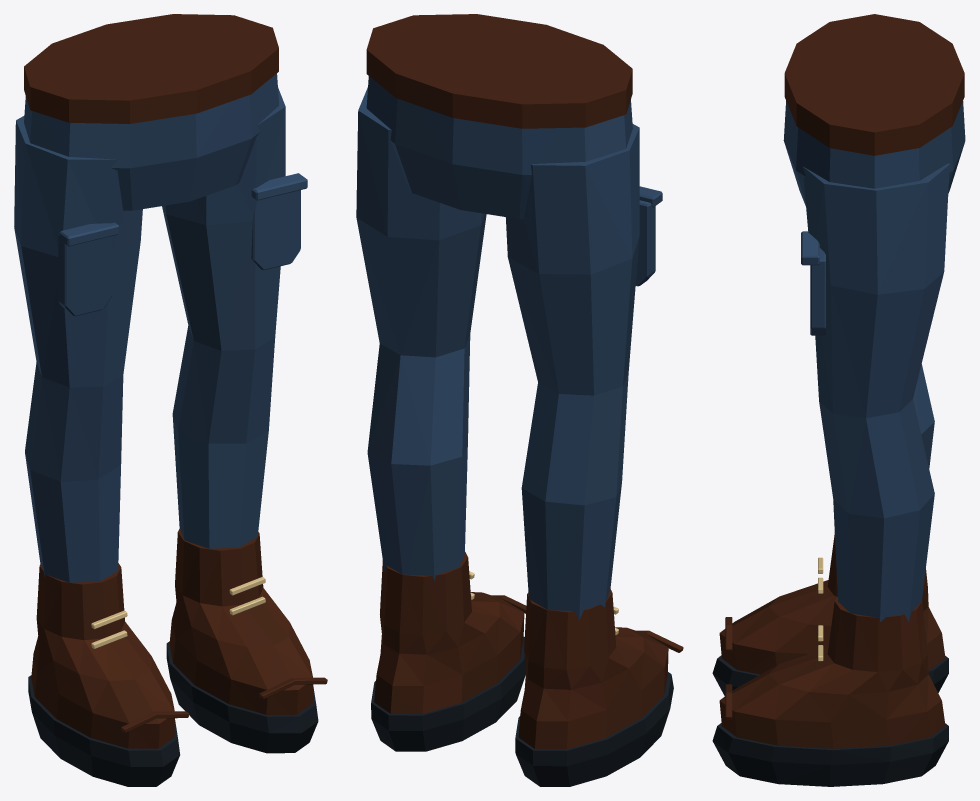
File: EP_Lower_WorkTrousers.fbx
3 renders of one model, left to right at view 1: azimuth 30°, elevation 25°; view 2: azimuth 150°, elevation 25°; view 3: azimuth 270°, elevation 25°, orthographic. The views are drawn at different scales.
Parts seen in each view (by area): view 1: EP_Lower_WorkTrousers; view 2: EP_Lower_WorkTrousers; view 3: EP_Lower_WorkTrousers.
Boxes of the visible parts, x1=… form: EP_Lower_WorkTrousers: x1=14, y1=14, x2=327, y2=786; EP_Lower_WorkTrousers: x1=356, y1=14, x2=683, y2=786; EP_Lower_WorkTrousers: x1=712, y1=14, x2=965, y2=786.
Size of the model in its own units: 0.3799 by 0.928 by 0.323.
